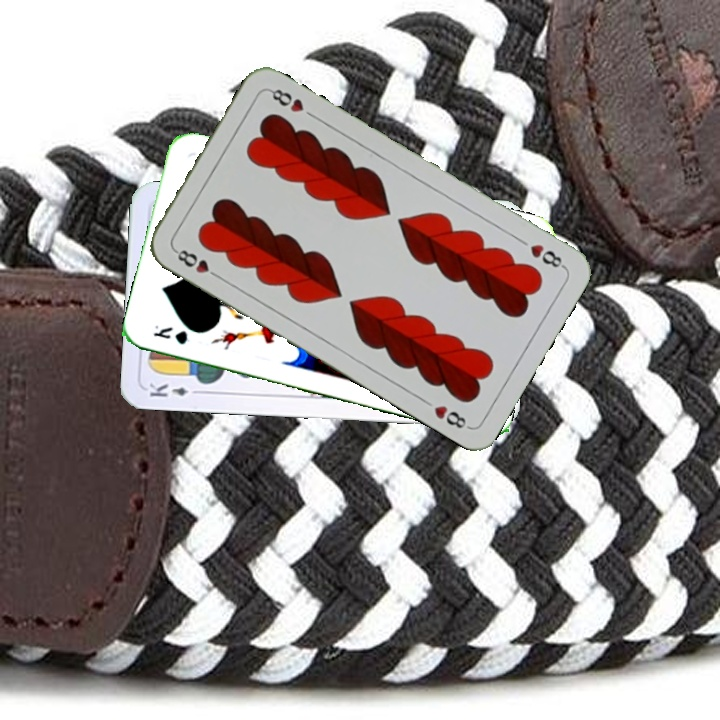EK: (145, 379, 204, 400)
GK: (149, 321, 193, 347)
H8: (170, 245, 224, 282), (526, 239, 568, 272)
